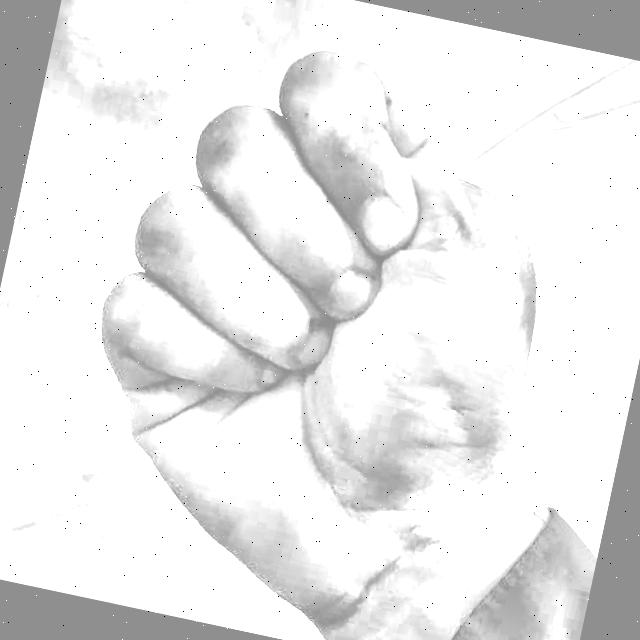To: (1, 0, 623, 640)
